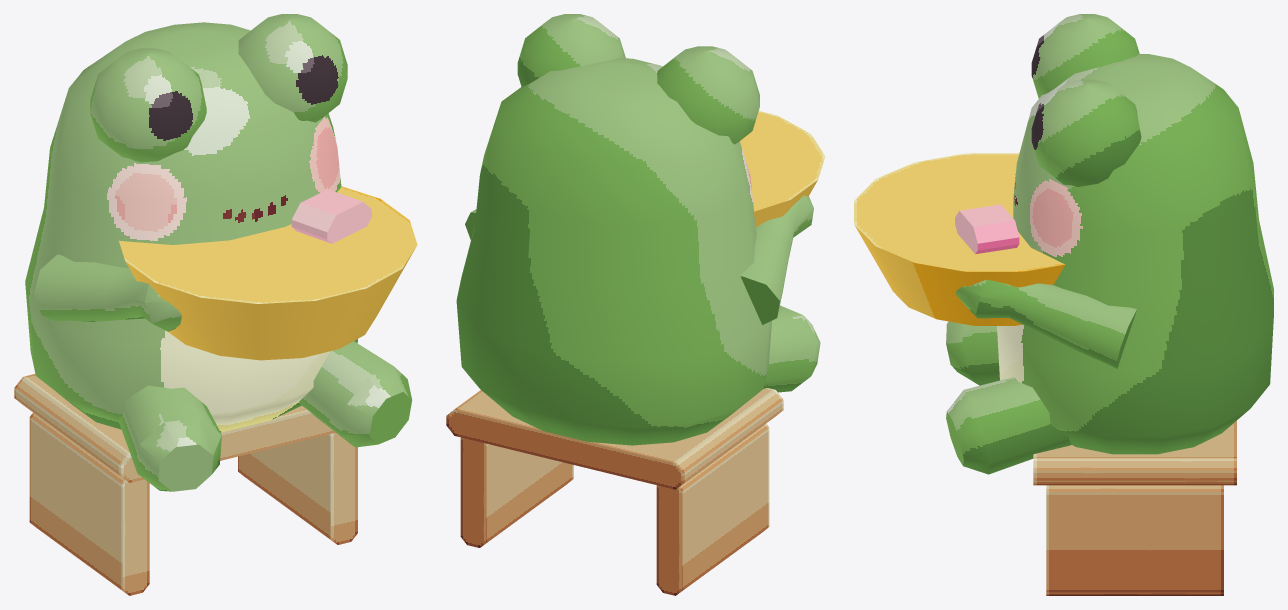
The model's file is frog.glb.
The picture shows the model from 3 angles, left to right: view 1: azimuth 30°, elevation 25°; view 2: azimuth 150°, elevation 25°; view 3: azimuth 270°, elevation 25°; orthographic projection. The views are drawn at different scales.
Visible parts, largest first — view 1: body, basin, legLstool, eyeballL, legRstool, eyeballR, footL, footR, stool, armL, soap; view 2: body, legLstool, stool, legRstool, eyeballL, basin, eyeballR, armL, footL; view 3: body, basin, legRstool, eyeballR, footR, armR, stool, eyeballL, footL, soap.
Part boxes in pixels (x1=…): body: x1=25, y1=22, x2=357, y2=431; basin: x1=119, y1=186, x2=417, y2=360; legLstool: x1=29, y1=412, x2=149, y2=595; eyeballL: x1=90, y1=48, x2=206, y2=162; legRstool: x1=238, y1=432, x2=357, y2=544; eyeballR: x1=238, y1=14, x2=347, y2=122; footL: x1=118, y1=385, x2=221, y2=491; footR: x1=299, y1=341, x2=412, y2=447; stool: x1=14, y1=374, x2=335, y2=482; armL: x1=34, y1=254, x2=181, y2=331; soap: x1=291, y1=189, x2=371, y2=243; body: x1=456, y1=58, x2=771, y2=445; legLstool: x1=656, y1=423, x2=769, y2=595; stool: x1=446, y1=388, x2=783, y2=489; legRstool: x1=460, y1=437, x2=573, y2=547; eyeballL: x1=657, y1=46, x2=759, y2=144; basin: x1=740, y1=111, x2=825, y2=226; eyeballR: x1=517, y1=14, x2=625, y2=86; armL: x1=740, y1=195, x2=813, y2=324; footL: x1=763, y1=305, x2=820, y2=392; body: x1=997, y1=54, x2=1273, y2=454; basin: x1=854, y1=153, x2=1065, y2=325; legRstool: x1=1046, y1=485, x2=1223, y2=595; eyeballR: x1=1031, y1=79, x2=1141, y2=186; footR: x1=946, y1=377, x2=1071, y2=474; armR: x1=955, y1=279, x2=1136, y2=368; stool: x1=1033, y1=420, x2=1236, y2=485; eyeballL: x1=1031, y1=14, x2=1139, y2=98; footL: x1=946, y1=321, x2=999, y2=385; soap: x1=955, y1=204, x2=1019, y2=254.
Size of the model in its own units: 19.95 by 29.4 by 22.7.
1 material, 1 textured.
